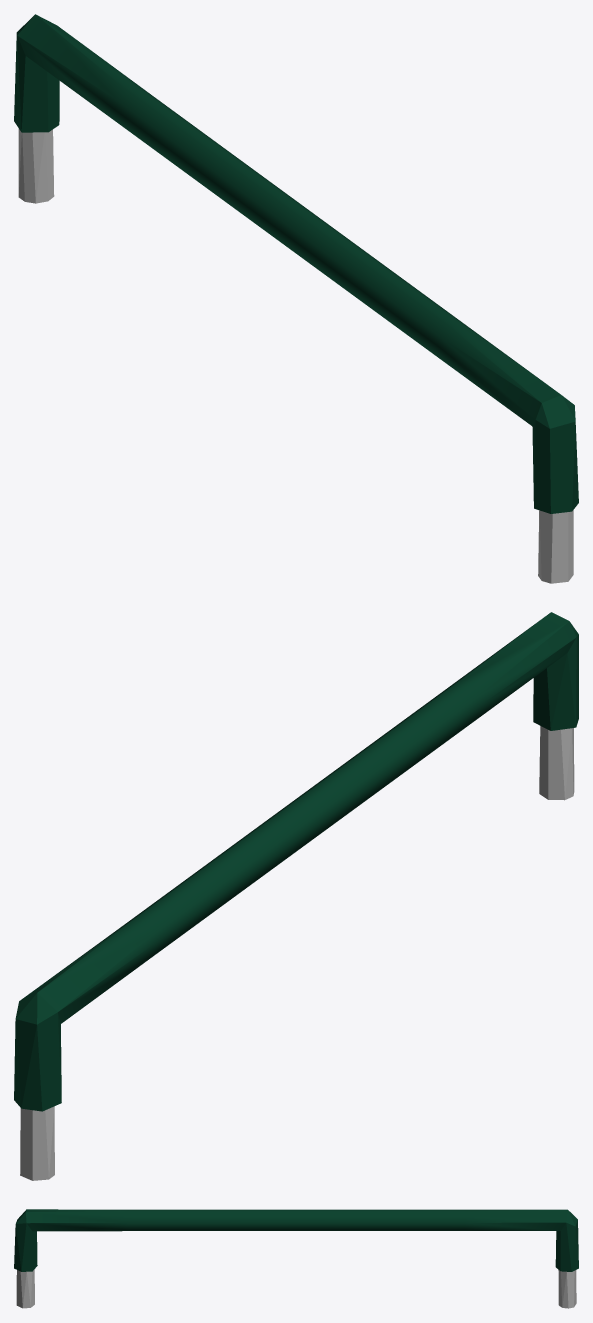
File: wire3.fbx
The picture shows the model from 3 angles, top to bottom: view 1: azimuth 30°, elevation 25°; view 2: azimuth 150°, elevation 25°; view 3: azimuth 270°, elevation 25°; orthographic projection. The views are drawn at different scales.
Visible parts, largest first — view 1: Cylinder.005; view 2: Cylinder.005; view 3: Cylinder.005.
Boxes of the visible parts, x1=… form: Cylinder.005: x1=14, y1=14, x2=578, y2=583; Cylinder.005: x1=14, y1=612, x2=578, y2=1180; Cylinder.005: x1=14, y1=1209, x2=578, y2=1308.
Size of the model in its own units: 2.58 by 11.11 by 60.07.
